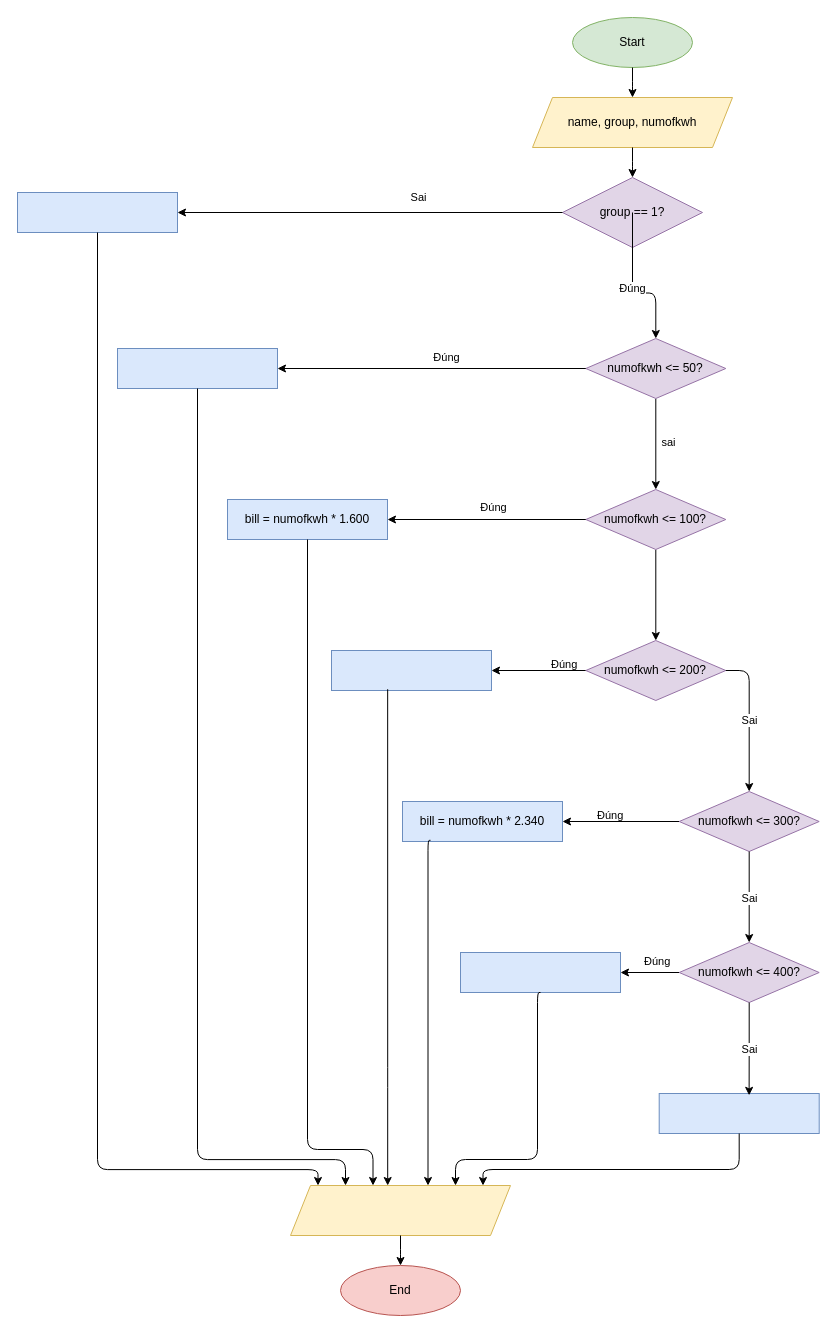
The diagram is 837 pixels wide and 1333 high, and some of its shapes have lost their labels. The shapes that lost their labels are listed below. From the top down, each one's centre as x and y in pixels, then its label:
At pixel 97 212: "bill = numofkwh * 2.271".
At pixel 197 368: "bill = numofkwh * 1.549".
At pixel 411 670: "bill = numofkwh + 1.858".
At pixel 540 972: "bill = numofkwh * 2.615".
At pixel 738 1113: "bill = numofkwh * 2.701".
At pixel 400 1210: "The utility bill".
